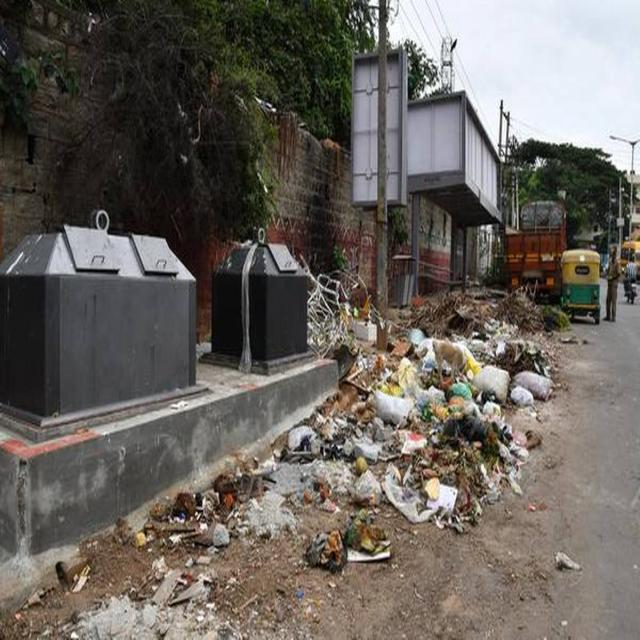garbage: (0, 188, 592, 636)
